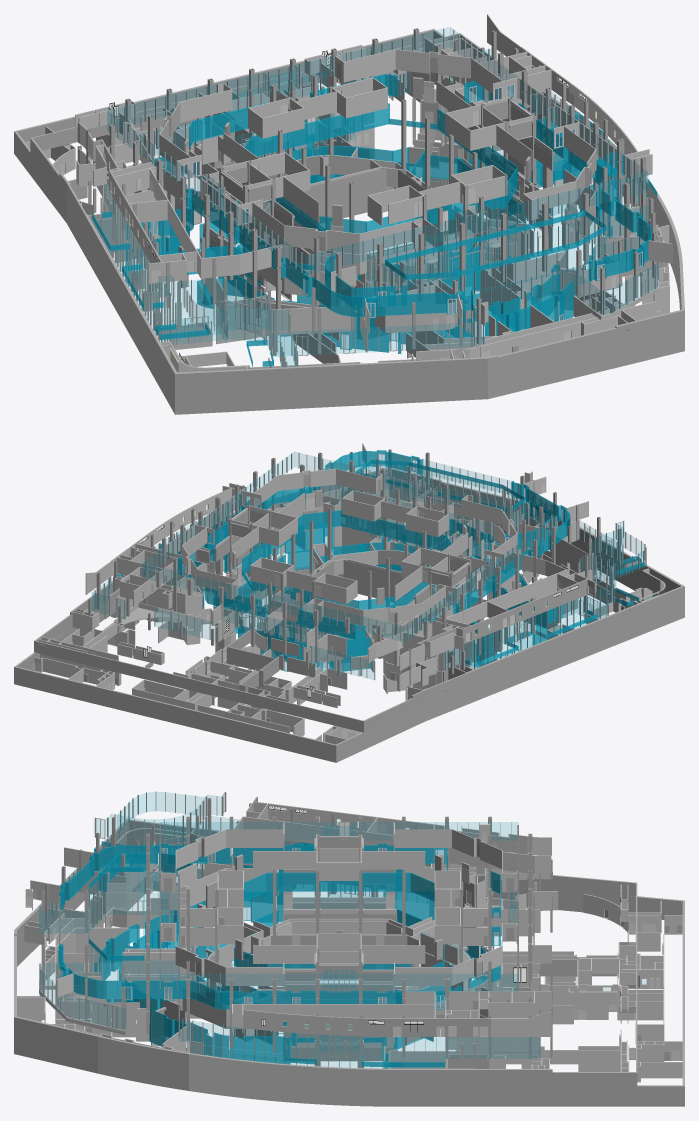
3 renders of one model, top to bottom at view 1: azimuth 30°, elevation 25°; view 2: azimuth 150°, elevation 25°; view 3: azimuth 270°, elevation 25°, orthographic. The views are drawn at different scales.
Parts seen in each view (by area): view 1: S_Q_HNT_600mm (×11), A_200加气板 (×20), A_石膏_150mm (×17), A_玻璃幕墙_200mm (×11), S_Q_HNT_500mm, S_Q_HNT_300mm, A_50+结构柱, A_玻璃栏板_100mm (×2), A_80+200加气板, A_100+200加气板, S_Q_HNT_400mm; view 2: S_Q_HNT_600mm (×7), S_Q_HNT_500mm (×2), A_玻璃幕墙_200mm (×7), A_200加气板 (×6), S_Q_HNT_300mm, A_石膏_150mm (×5), S_Q_HNT_400mm (×4), A_100+200加气板, A_50+结构柱, A_80+200加气板, S_Q_HNT_250mm; view 3: A_200加气板 (×33), S_Q_HNT_600mm (×12), A_石膏_150mm (×14), A_玻璃幕墙_200mm (×11), S_Q_HNT_400mm (×5), A_80+200加气板 (×2), S_Q_HNT_500mm (×4), A_100+200加气板 (×2), HC8330D_1 (×3), A_200+200加气板 (×2), A_150加气板, HC6830D_1 (×2) (+4 smaller).
Part boxes in pixels (x1,y1,x2,y2): S_Q_HNT_600mm (×11): [87, 126, 684, 413]; A_200加气板 (×20): [130, 87, 662, 363]; A_石膏_150mm (×17): [180, 49, 616, 335]; A_玻璃幕墙_200mm (×11): [191, 102, 554, 352]; S_Q_HNT_500mm: [14, 29, 433, 154]; S_Q_HNT_300mm: [32, 33, 458, 150]; A_50+结构柱: [287, 168, 386, 223]; A_玻璃栏板_100mm (×2): [385, 210, 585, 276]; A_80+200加气板: [569, 82, 637, 154]; A_100+200加气板: [112, 176, 162, 282]; S_Q_HNT_400mm: [32, 156, 65, 221]; S_Q_HNT_600mm (×7): [440, 481, 684, 700]; S_Q_HNT_500mm (×2): [15, 667, 363, 762]; A_玻璃幕墙_200mm (×7): [207, 510, 446, 671]; A_200加气板 (×6): [197, 498, 567, 733]; S_Q_HNT_300mm: [35, 641, 362, 732]; A_石膏_150mm (×5): [197, 469, 589, 625]; S_Q_HNT_400mm (×4): [362, 675, 468, 747]; A_100+200加气板: [471, 579, 588, 640]; A_50+结构柱: [343, 560, 419, 602]; A_80+200加气板: [148, 488, 231, 546]; S_Q_HNT_250mm: [225, 646, 273, 670]; A_200加气板 (×33): [17, 816, 682, 1078]; S_Q_HNT_600mm (×12): [17, 847, 473, 1106]; A_石膏_150mm (×14): [82, 829, 533, 1028]; A_玻璃幕墙_200mm (×11): [68, 845, 434, 1062]; S_Q_HNT_400mm (×5): [474, 875, 637, 1106]; A_80+200加气板 (×2): [243, 1009, 490, 1036]; S_Q_HNT_500mm (×4): [575, 896, 684, 1106]; A_100+200加气板 (×2): [253, 801, 539, 1049]; HC8330D_1 (×3): [319, 836, 358, 998]; A_200+200加气板 (×2): [163, 998, 454, 1068]; A_150加气板: [291, 921, 386, 934]; HC6830D_1 (×2): [283, 869, 394, 883].
Size of the model in its own units: 124 by 24.77 by 140.
Materials: 21 (1 with a texture image).
